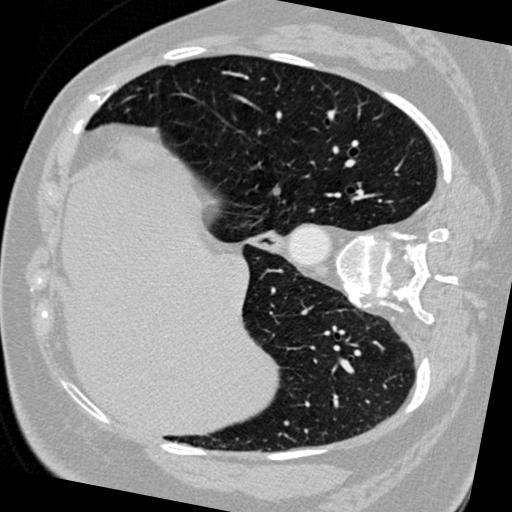nodule: (270, 185, 285, 200)
